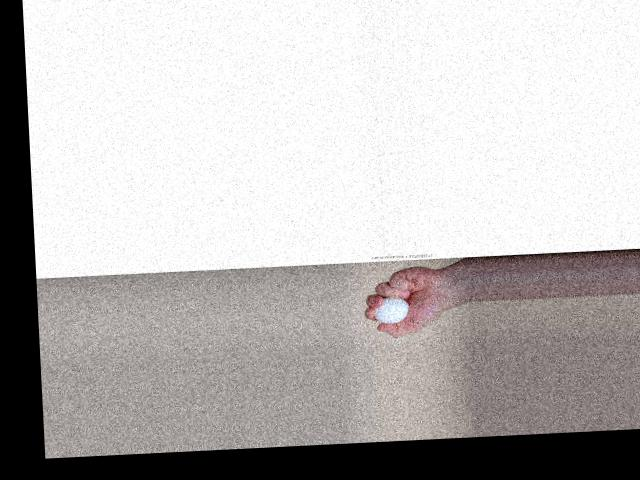egg: (374, 296, 410, 324)
